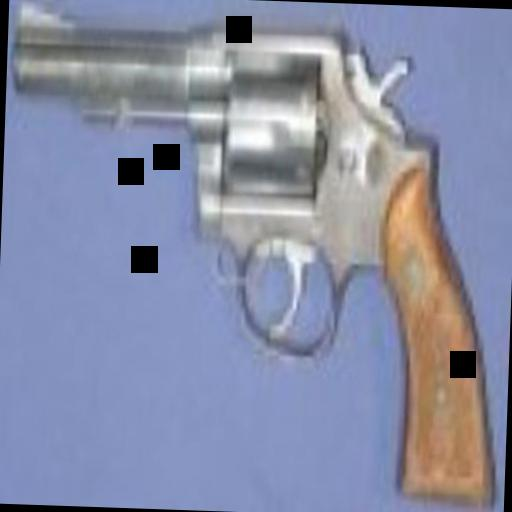Handgun: (0, 0, 504, 497)
